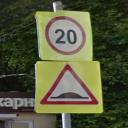speed_limit_20: (43, 16, 88, 54)
